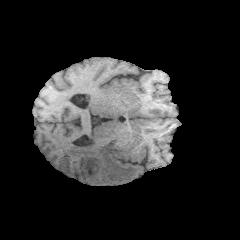glioma: (62, 138, 141, 182)
